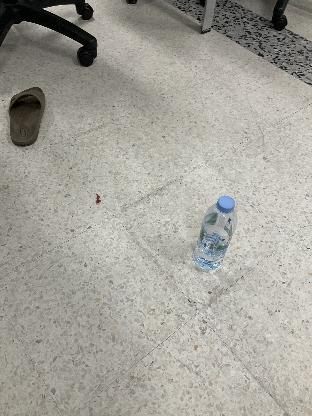Plastic Bottle: (194, 196, 238, 276)
